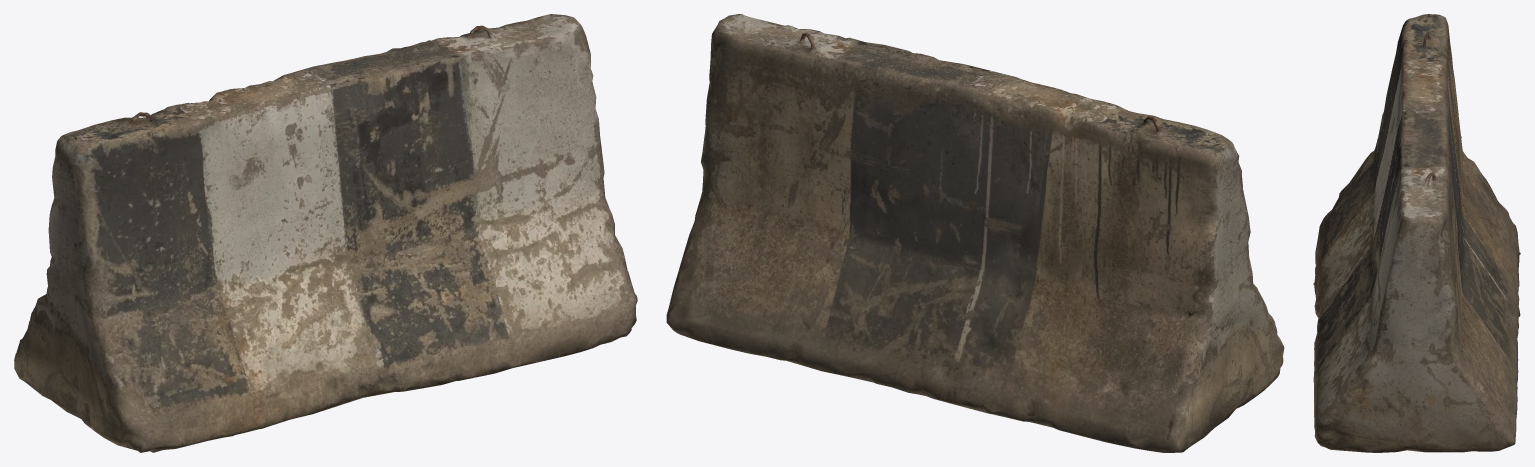
File: concrete_road_barrier.glb
3 renders of one model, left to right at view 1: azimuth 30°, elevation 25°; view 2: azimuth 150°, elevation 25°; view 3: azimuth 270°, elevation 25°, orthographic. The views are drawn at different scales.
Visible parts, largest first — view 1: concrete_road_barrier; view 2: concrete_road_barrier; view 3: concrete_road_barrier.
Part boxes in pixels (<box>): concrete_road_barrier: <box>14,14,637,452</box>; concrete_road_barrier: <box>666,14,1284,452</box>; concrete_road_barrier: <box>1313,14,1520,452</box>.
Size of the model in its own units: 1.54 by 0.8304 by 0.6387.
Materials: 1 (1 with a texture image).
